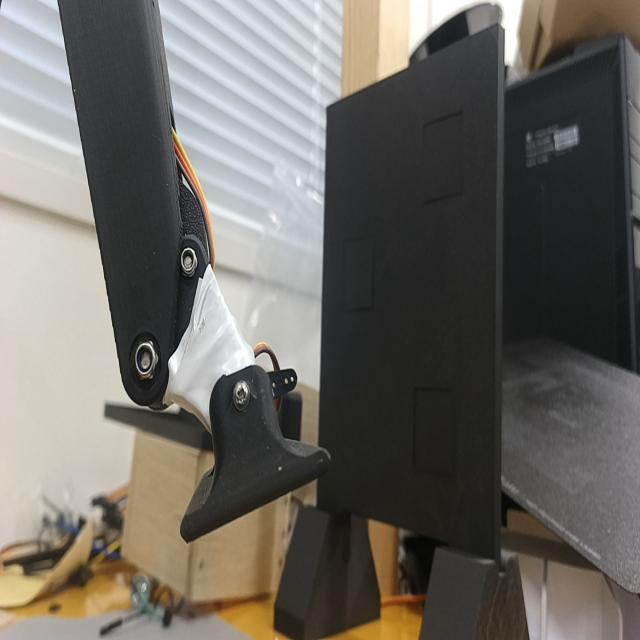Wall: (318, 24, 504, 559)
